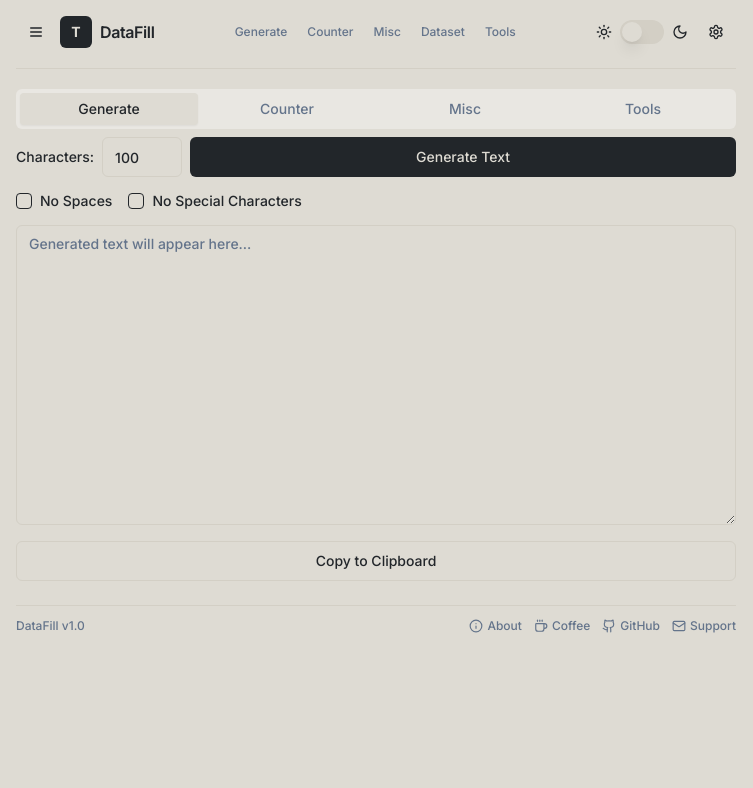
Scenario: DataFillUI generate extras › shows a notification when the generated text is copied
Replace the text in the number field labelled "Characters:" with "10" at [142, 157], box [102,137,182,177]
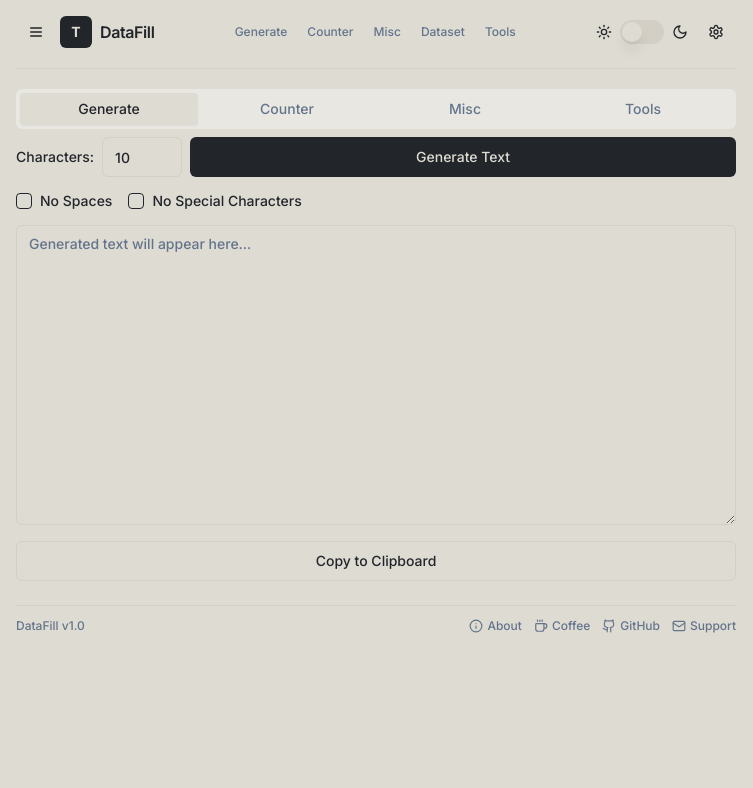
Click the button "Generate Text" at [463, 157], box [190,137,736,177]
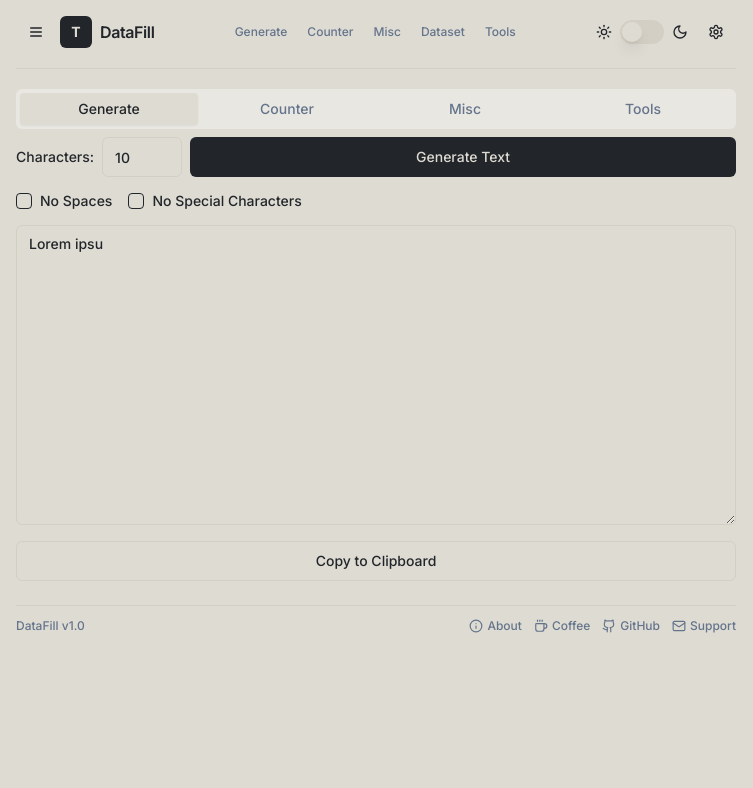
Click the button "Copy to Clipboard" at [376, 561], box [16,541,736,581]
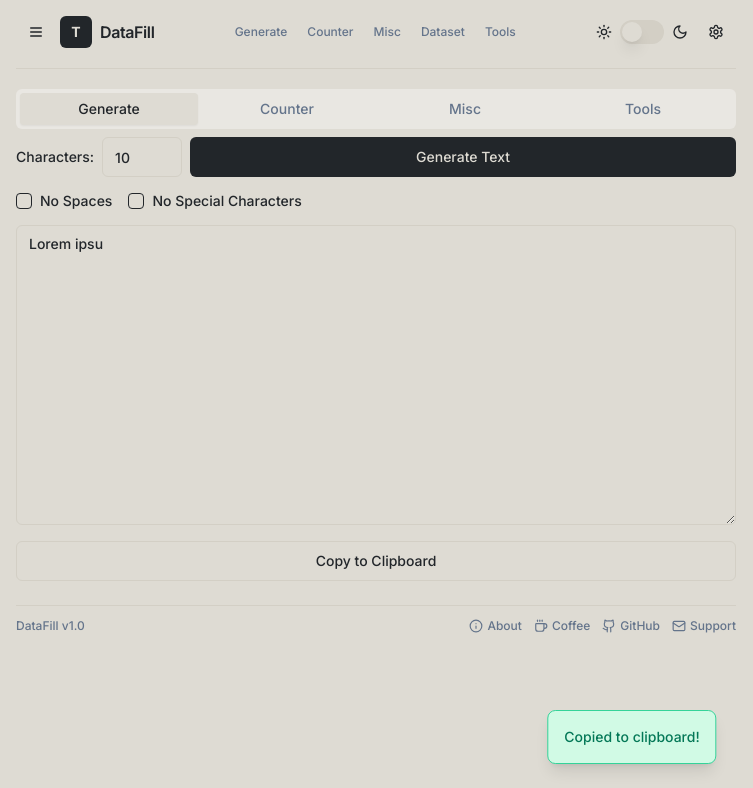
Expected: the message reads "Copied to clipboard!", [564,728,700,745]
